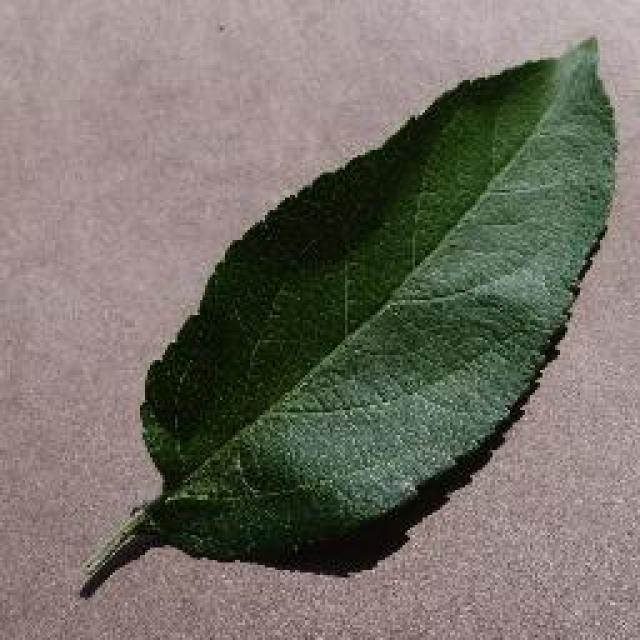apple healthy: (78, 32, 620, 598)
